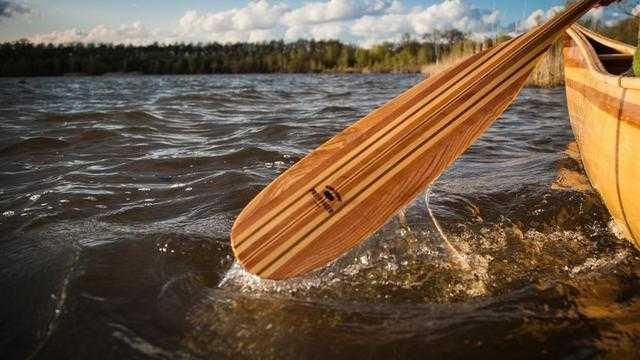kayak: (561, 2, 639, 252)
